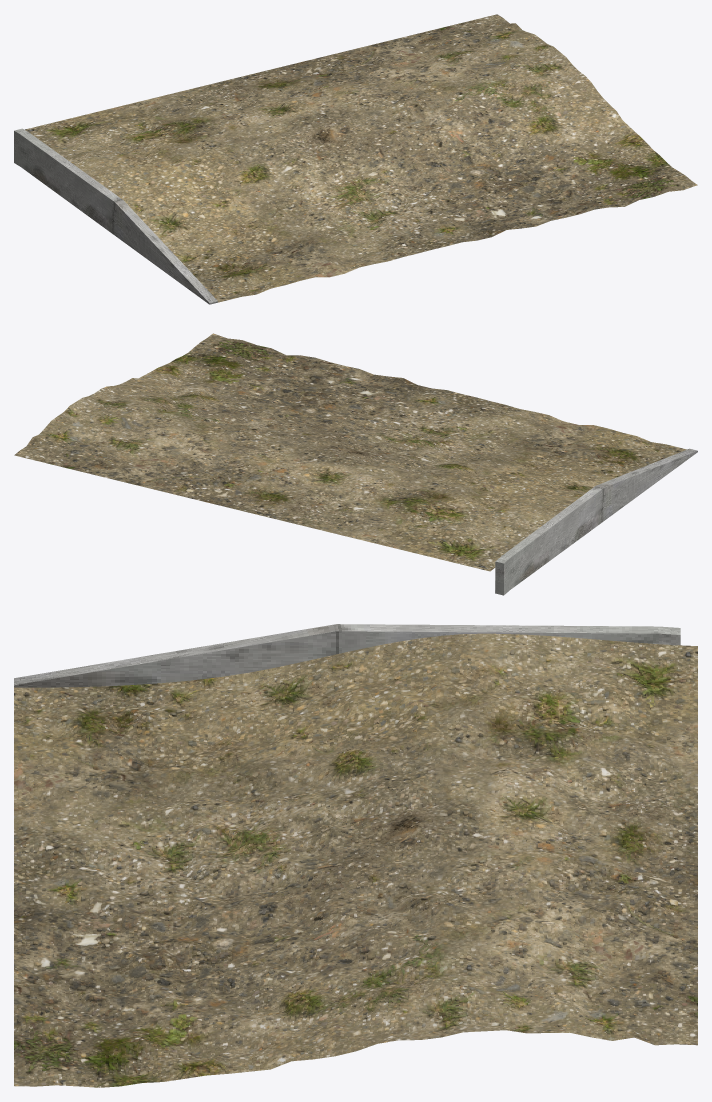
File: big_field01.glb
The picture shows the model from 3 angles, top to bottom: view 1: azimuth 30°, elevation 25°; view 2: azimuth 150°, elevation 25°; view 3: azimuth 270°, elevation 25°; orthographic projection. The views are drawn at different scales.
Visible parts, largest first — view 1: Big_Field, Field_Retaining_Wall; view 2: Big_Field, Field_Retaining_Wall; view 3: Big_Field, Field_Retaining_Wall.
Part boxes in pixels (left/top/right/bottom): Big_Field: left=25, top=14, right=697, bottom=302; Field_Retaining_Wall: left=14, top=128, right=217, bottom=304; Big_Field: left=14, top=333, right=686, bottom=571; Field_Retaining_Wall: left=495, top=448, right=697, bottom=595; Big_Field: left=14, top=633, right=697, bottom=1087; Field_Retaining_Wall: left=14, top=624, right=680, bottom=687.
Bounding box in the file's own units: 43.57 × 3.23 × 31.
2 materials, 2 textured.
